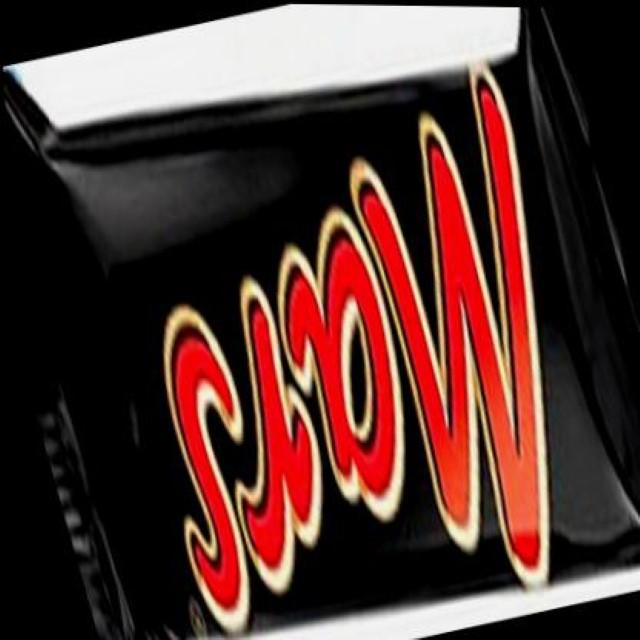mars_chocolate: (3, 105, 640, 640)
